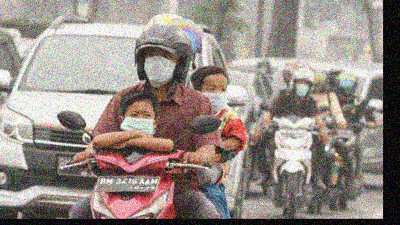with_mask: (142, 48, 177, 87), (120, 107, 155, 135), (202, 82, 228, 113), (294, 79, 310, 98)
